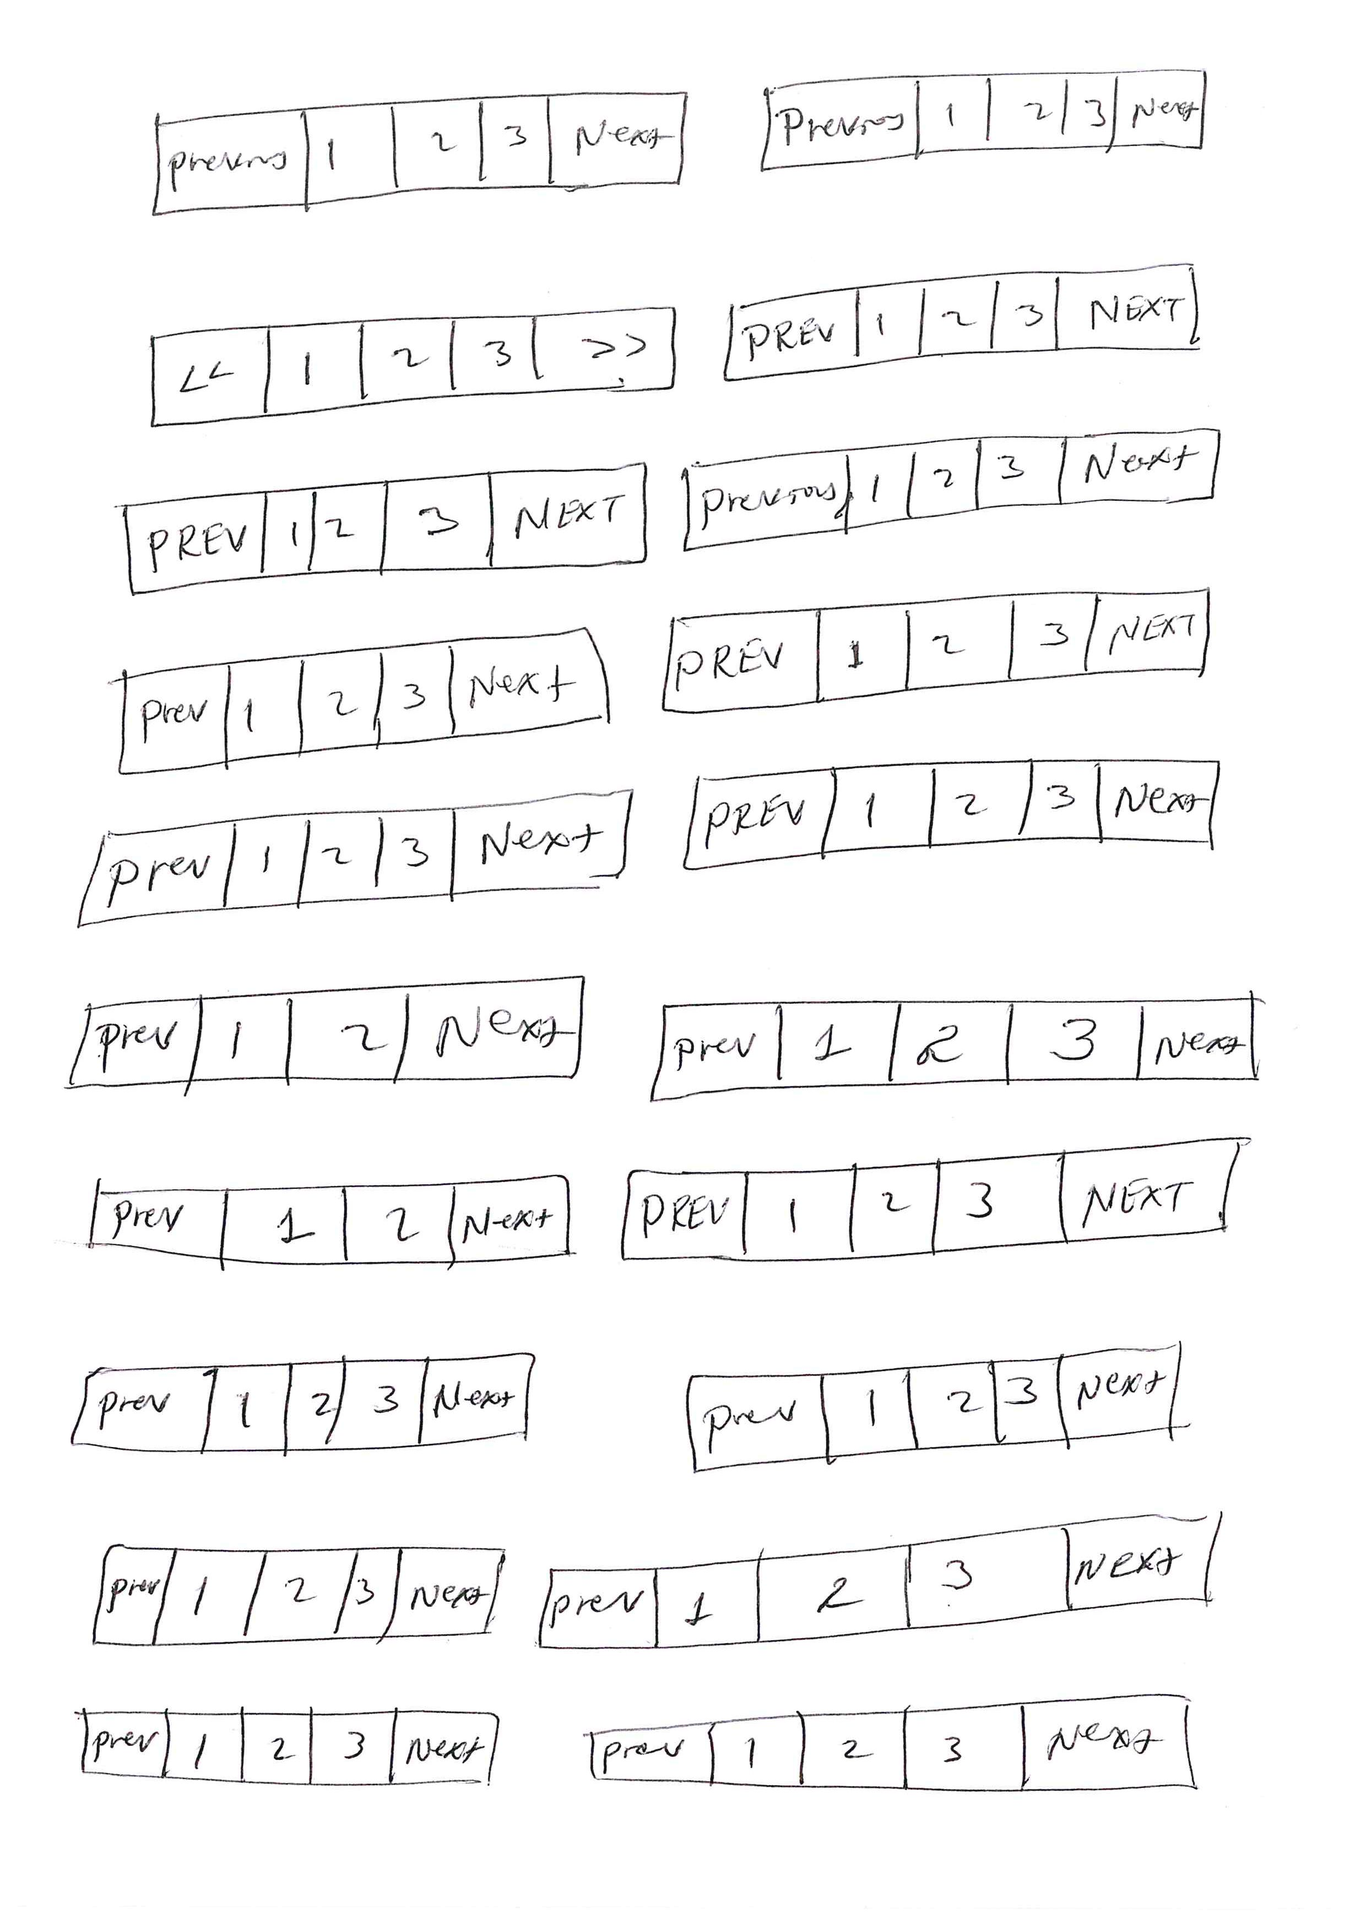Pagination: (537, 1511, 1223, 1652), (75, 787, 637, 931), (619, 1136, 1243, 1263), (115, 625, 612, 778), (123, 460, 649, 599), (659, 586, 1212, 716), (149, 89, 690, 219), (682, 427, 1221, 553), (648, 994, 1257, 1104), (148, 305, 679, 430), (684, 1341, 1183, 1474), (585, 1691, 1197, 1795), (682, 757, 1223, 871), (61, 974, 585, 1091), (721, 260, 1199, 381), (69, 1351, 537, 1453), (87, 1172, 574, 1269), (758, 68, 1209, 172), (89, 1541, 506, 1649), (78, 1708, 500, 1788)
